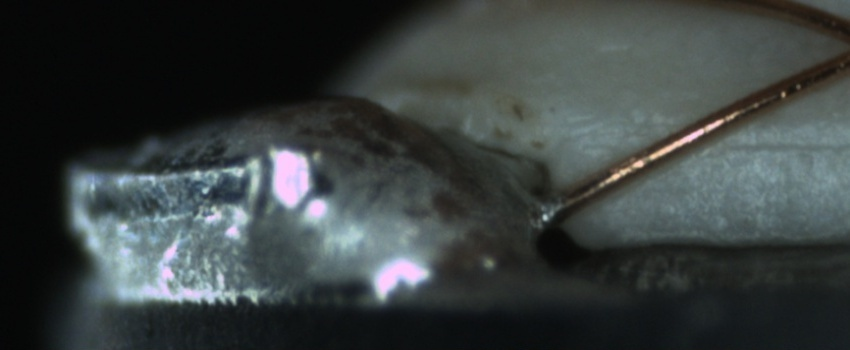CL: (830, 16, 850, 72)
DL: (679, 109, 845, 176)
